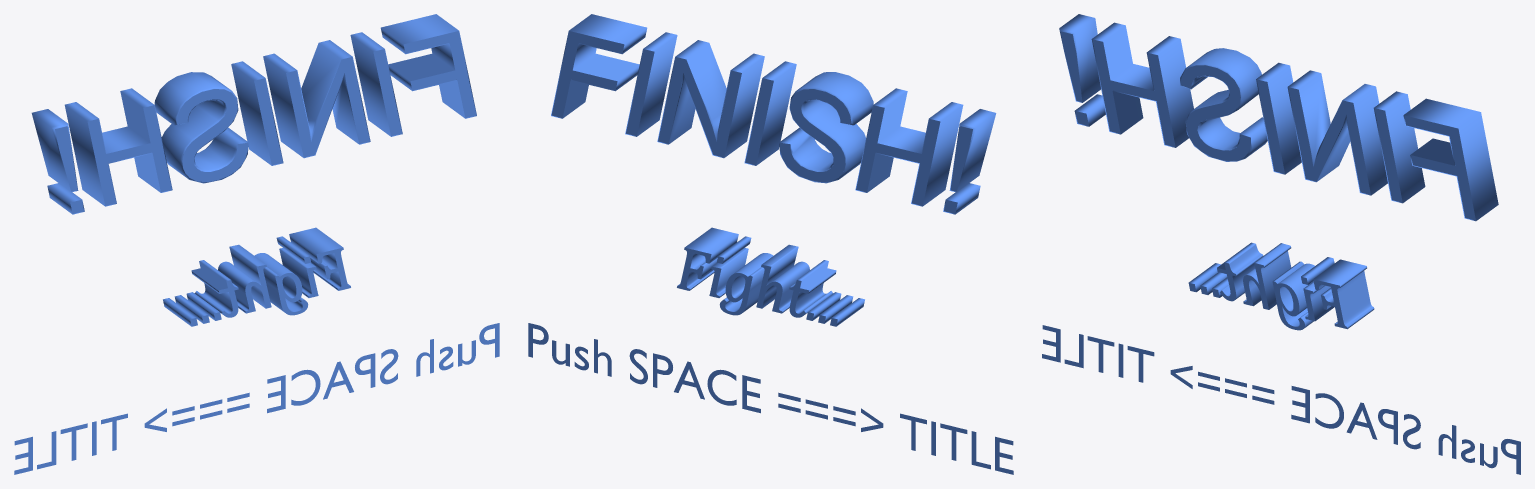
File: Finish_fight.obj
The picture shows the model from 3 angles, left to right: view 1: azimuth 30°, elevation 25°; view 2: azimuth 150°, elevation 25°; view 3: azimuth 330°, elevation 25°; orthographic projection.
Visible parts, largest first — view 1: テキスト, テキスト.002, テキスト.001; view 2: テキスト, テキスト.002, テキスト.001; view 3: テキスト, テキスト.002, テキスト.001.
Boxes of the visible parts, x1,y1,x2,y2 form: テキスト: [31, 14, 476, 214]; テキスト.002: [163, 227, 350, 326]; テキスト.001: [14, 323, 499, 474]; テキスト: [551, 14, 996, 214]; テキスト.002: [677, 227, 864, 326]; テキスト.001: [528, 323, 1013, 474]; テキスト: [1059, 14, 1498, 221]; テキスト.002: [1188, 242, 1374, 330]; テキスト.001: [1042, 325, 1520, 474].
Size of the model in its own units: 30.77 by 21.22 by 3.
3 materials, 3 textured.
